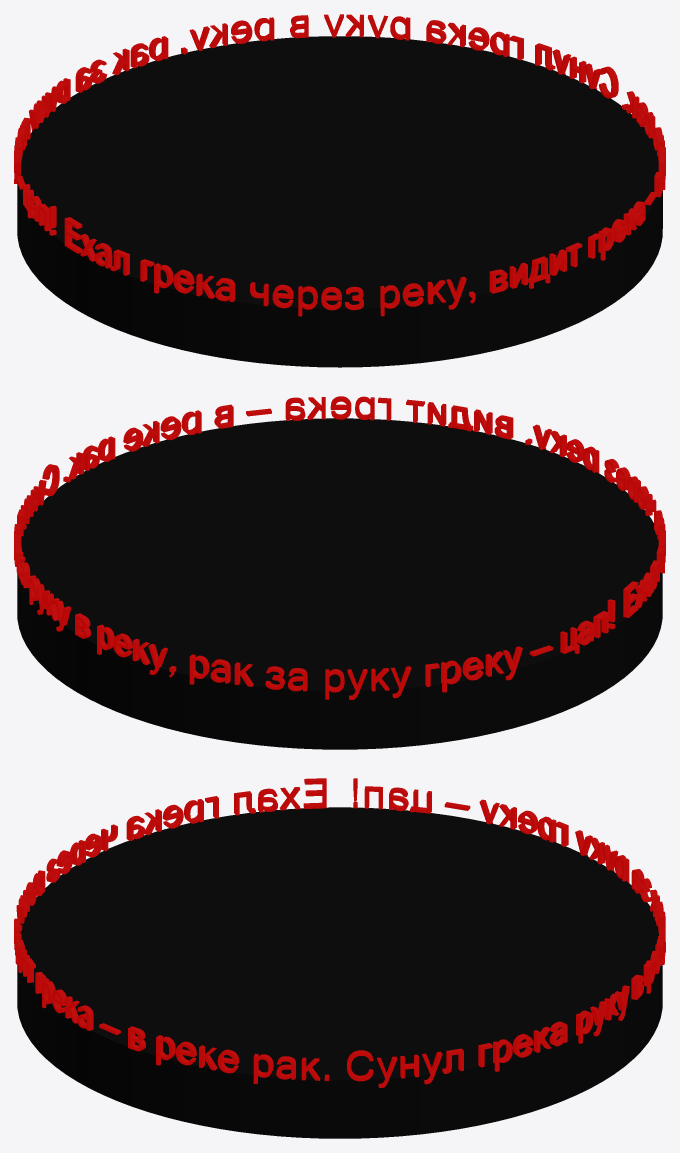
The model's file is greka.glb.
3 renders of one model, top to bottom at view 1: azimuth 30°, elevation 25°; view 2: azimuth 150°, elevation 25°; view 3: azimuth 270°, elevation 25°, orthographic.
Size of the model in its own units: 1.01 by 0.1486 by 1.01.
